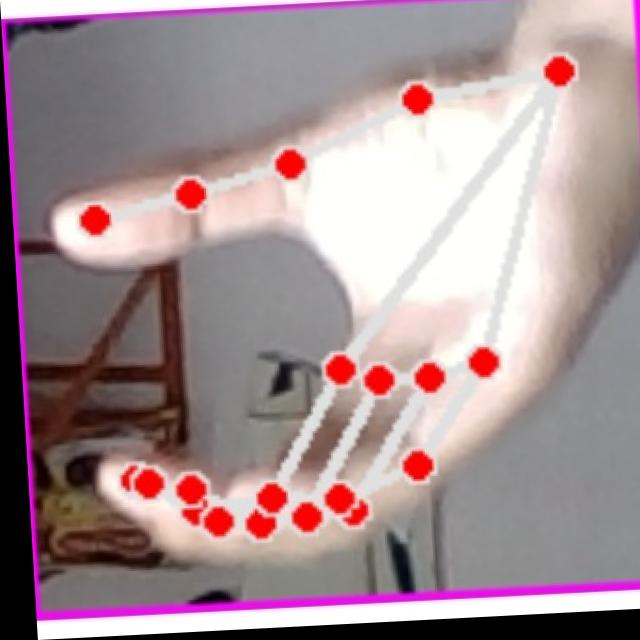C: (22, 15, 640, 605)
